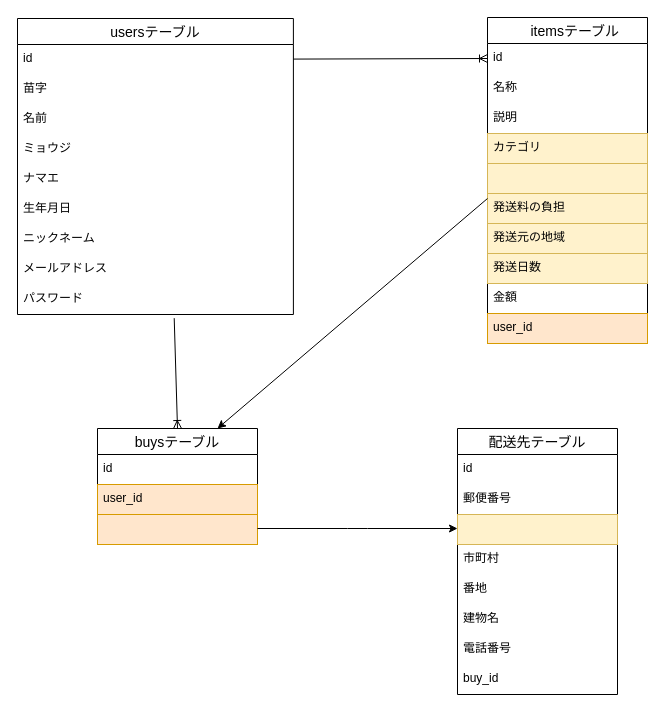
Some shapes in this 665 by 715 pixel diagram are drawn without their labels. The shapes that lost their labels are listed below. From the top down, each one's centre as x and y in pixels, then its label:
At (x=567, y=178): "商品の状態".
At (x=177, y=529): "item_id".
At (x=537, y=529): "都道府県".
